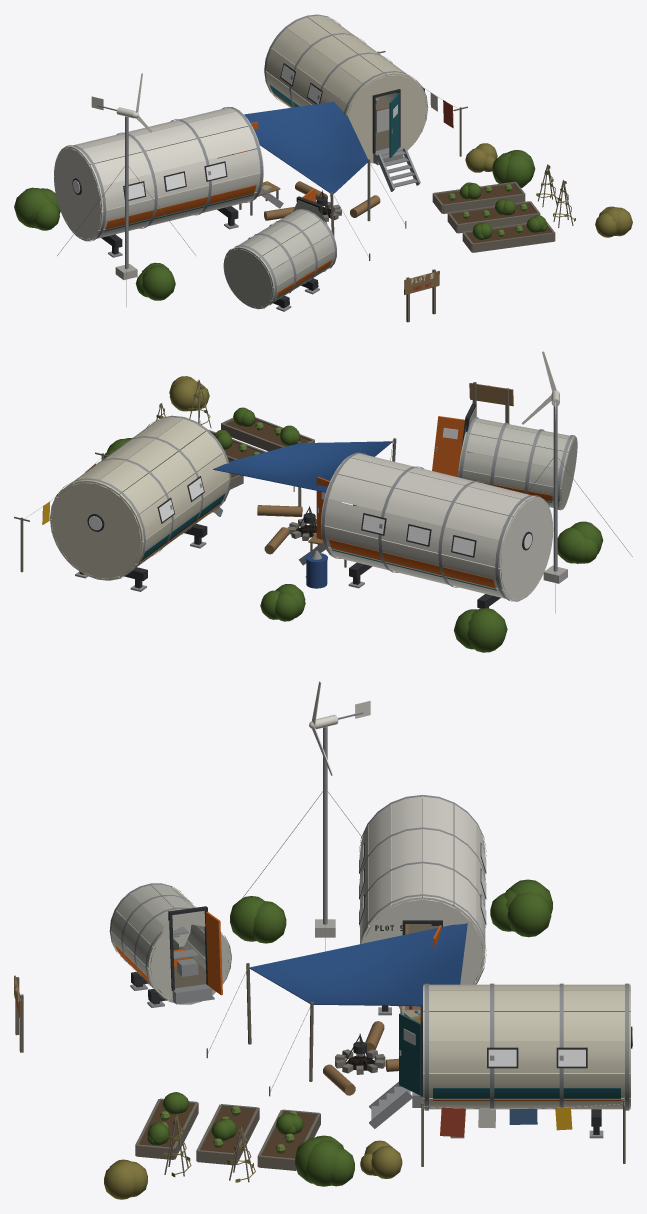
Rendered from hab-pods.glb.
The picture shows the model from 3 angles, top to bottom: view 1: azimuth 30°, elevation 25°; view 2: azimuth 150°, elevation 25°; view 3: azimuth 270°, elevation 25°; orthographic projection. The views are drawn at different scales.
Visible parts, largest first — view 1: C0_0_lod0, C-1_0_lod0, C-1_-1_lod0, C0_-1_lod0; view 2: C-1_0_lod0, C0_0_lod0, C-1_-1_lod0, C0_-1_lod0; view 3: C0_0_lod0, C-1_0_lod0, C-1_-1_lod0, C0_-1_lod0.
Part boxes in pixels (x1,y1,x2,y2): C0_0_lod0: [244, 14, 497, 217]; C-1_0_lod0: [14, 107, 294, 257]; C-1_-1_lod0: [91, 73, 439, 322]; C0_-1_lod0: [316, 150, 632, 252]; C-1_0_lod0: [260, 452, 555, 652]; C0_0_lod0: [14, 415, 392, 591]; C-1_-1_lod0: [390, 351, 632, 583]; C0_-1_lod0: [104, 376, 316, 534]; C0_0_lod0: [249, 923, 632, 1178]; C-1_0_lod0: [328, 792, 552, 1058]; C-1_-1_lod0: [14, 681, 370, 1058]; C0_-1_lod0: [104, 1002, 370, 1199].
Size of what is drawn, in the model's own units: 19.85 by 8.43 by 17.81.
